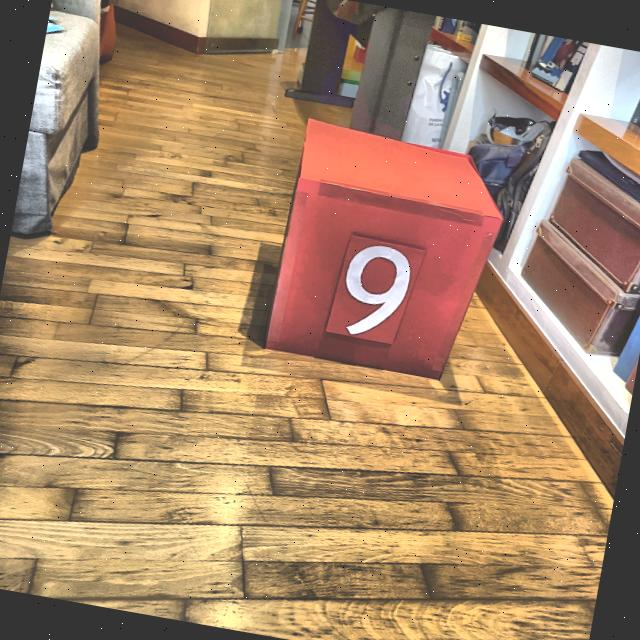nine: (336, 240, 416, 344)
red box: (264, 113, 515, 390)
